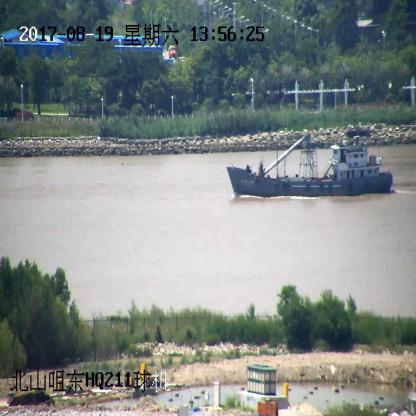Fishing Boat: (227, 130, 392, 198)
